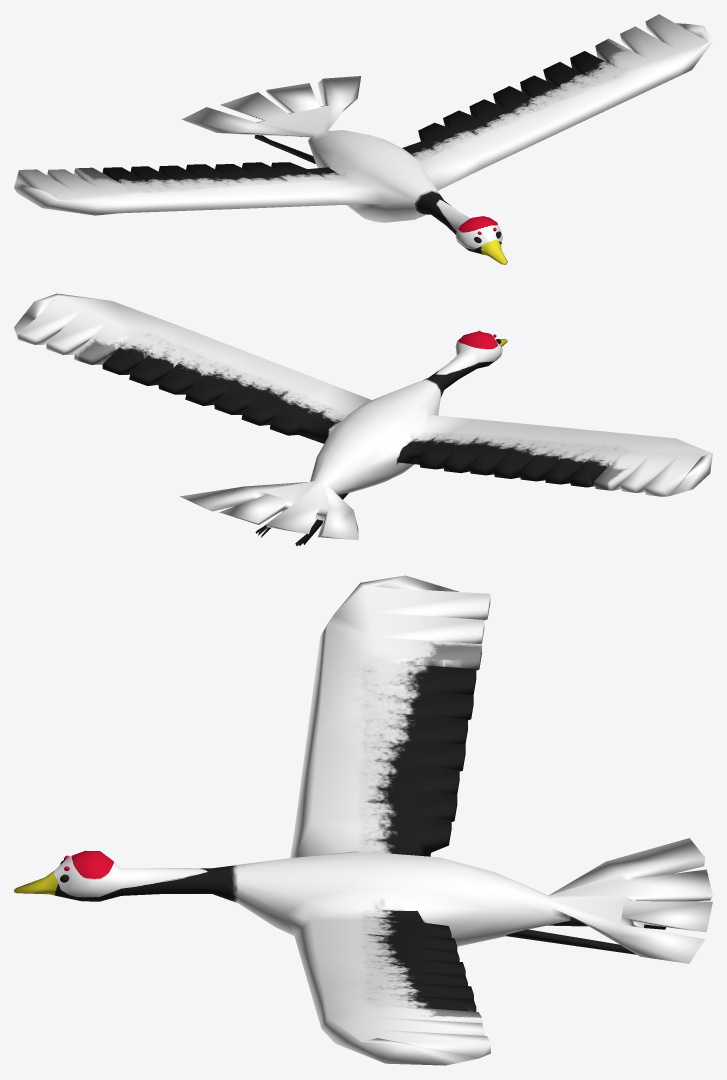
File: crane.obj
The picture shows the model from 3 angles, top to bottom: view 1: azimuth 30°, elevation 25°; view 2: azimuth 150°, elevation 25°; view 3: azimuth 270°, elevation 25°; orthographic projection. The views are drawn at different scales.
Visible parts, largest first — view 1: 円柱.001; view 2: 円柱.001; view 3: 円柱.001.
Boxes of the visible parts, x1=… form: 円柱.001: x1=14, y1=14, x2=712, y2=264; 円柱.001: x1=14, y1=293, x2=712, y2=545; 円柱.001: x1=14, y1=575, x2=712, y2=1065.
Bounding box in the file's own units: 23.16 × 3.21 × 14.46.
4 materials, 4 textured.
